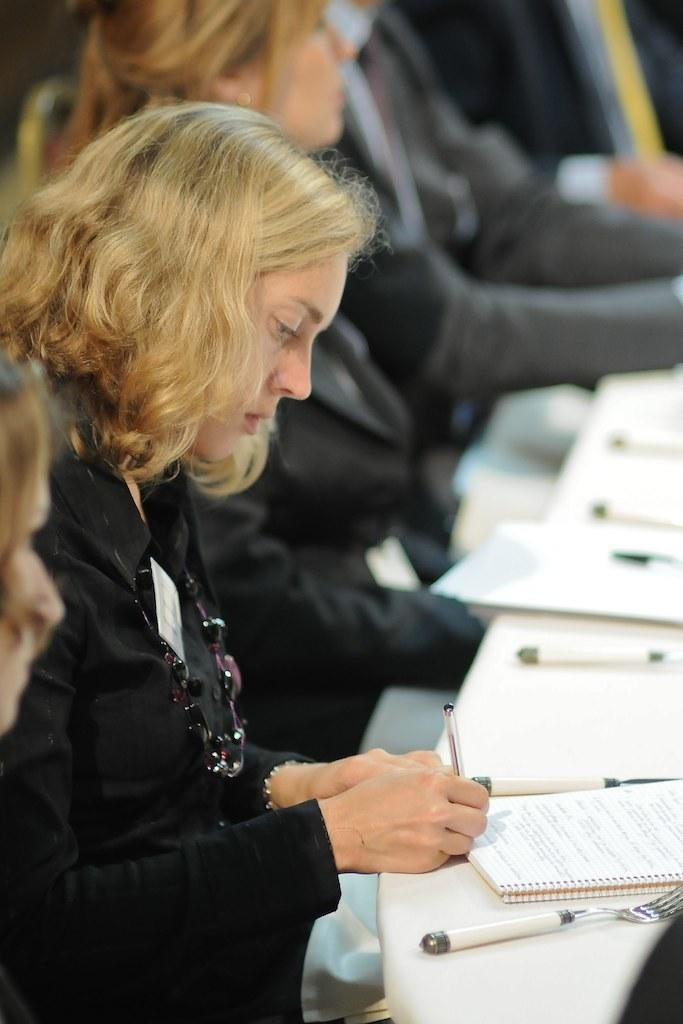pen: (439, 703, 459, 787)
